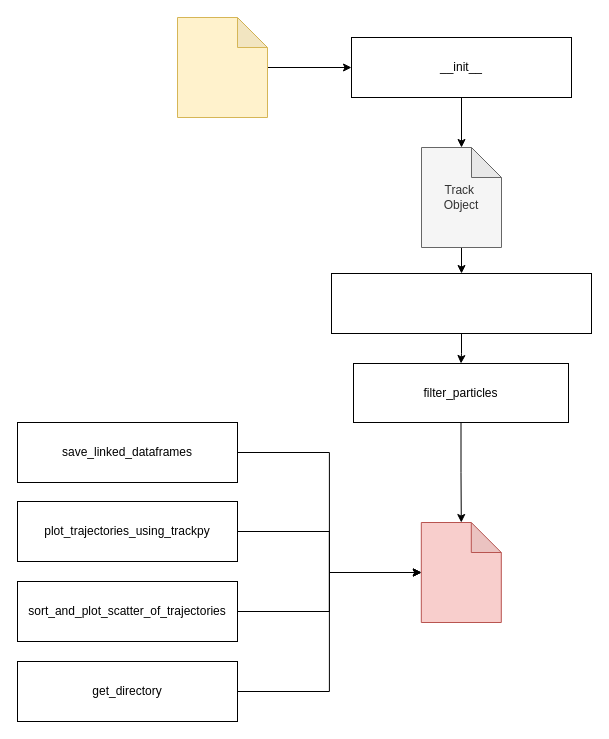
Some shapes in this 609 by 739 pixel diagram are drawn without their labels. Here are the shapes that lost their labels. From the top down, the box of each, then its label:
(176, 16, 268, 118): Identify Object (previously made)
(330, 272, 592, 334): link_particles
(420, 522, 501, 622): Track Object (with Tracked objects)
